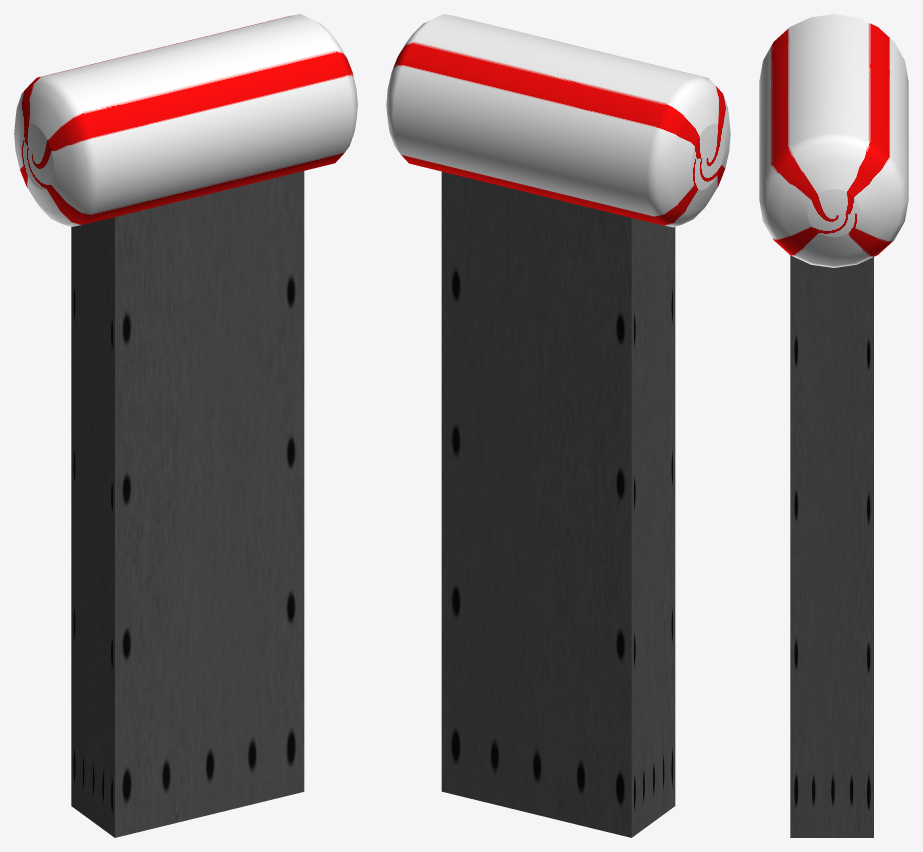
File: Industrialist Lever.fbx
3 renders of one model, left to right at view 1: azimuth 30°, elevation 25°; view 2: azimuth 150°, elevation 25°; view 3: azimuth 270°, elevation 25°, orthographic. The views are drawn at different scales.
Visible parts, largest first — view 1: Industrialist_Lever, Industrialist_Lever_Handle; view 2: Industrialist_Lever, Industrialist_Lever_Handle; view 3: Industrialist_Lever, Industrialist_Lever_Handle.
Boxes of the visible parts, bbox=[...] form: Industrialist_Lever: bbox=[71, 171, 304, 837]; Industrialist_Lever_Handle: bbox=[14, 14, 357, 226]; Industrialist_Lever: bbox=[441, 171, 675, 837]; Industrialist_Lever_Handle: bbox=[386, 14, 730, 227]; Industrialist_Lever: bbox=[790, 255, 873, 837]; Industrialist_Lever_Handle: bbox=[759, 14, 908, 267].
Size of the model in its own units: 3.21 by 7.38 by 1.39.
Materials: 2 (2 with a texture image).
